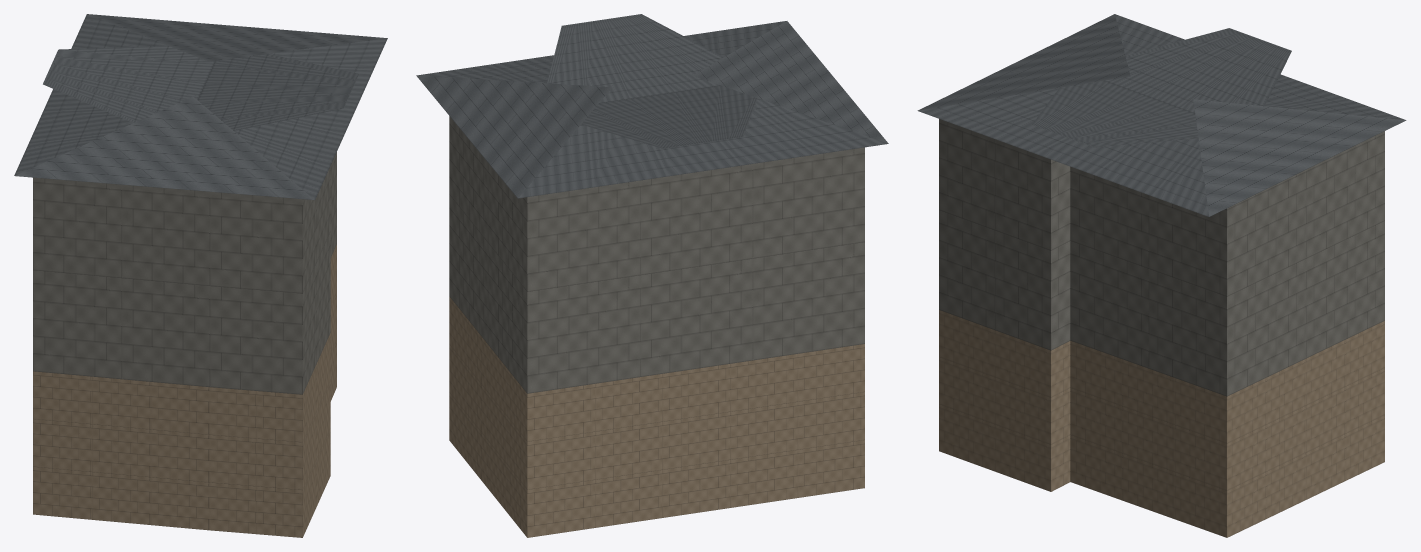
File: bld_c9_15_459.gltf
3 renders of one model, left to right at view 1: azimuth 30°, elevation 25°; view 2: azimuth 150°, elevation 25°; view 3: azimuth 270°, elevation 25°, orthographic.
Parts seen in each view (by area): view 1: bld_c9_15_459; view 2: bld_c9_15_459; view 3: bld_c9_15_459.
Boxes of the visible parts, bbox=[...] form: bld_c9_15_459: bbox=[14, 14, 387, 537]; bld_c9_15_459: bbox=[416, 14, 888, 537]; bld_c9_15_459: bbox=[917, 14, 1406, 537].
Size of the model in its own units: 15.71 by 13.3 by 16.
Materials: 3 (3 with a texture image).
